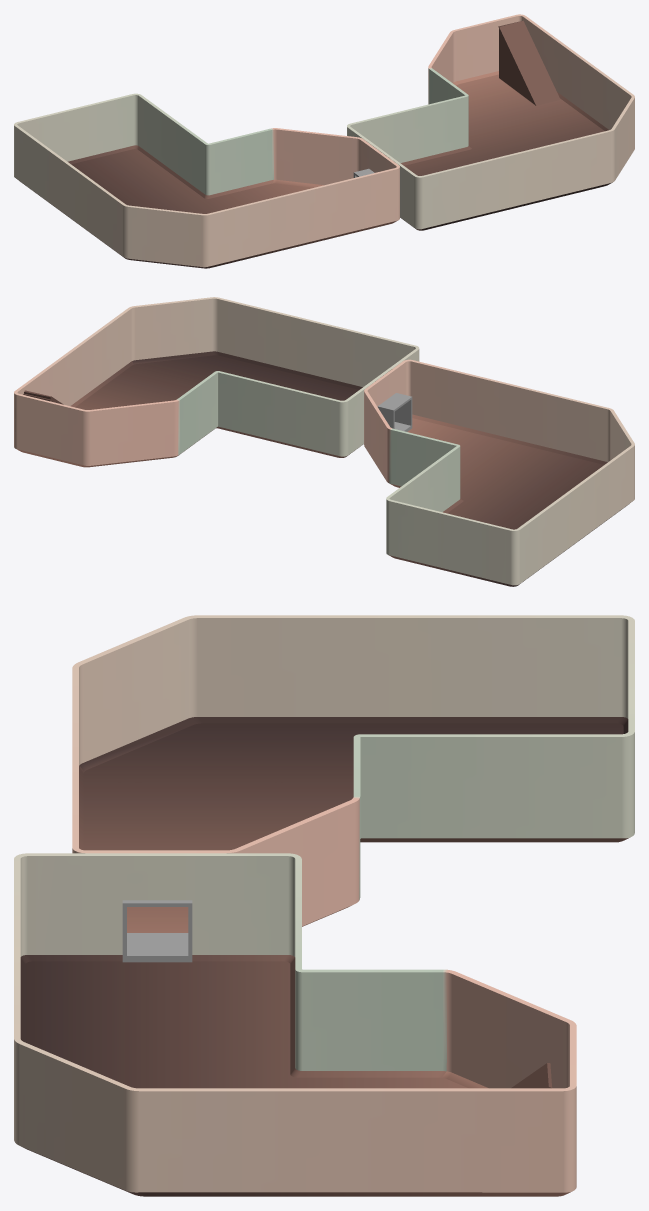
3 views of the same model, one above another, from view 1: azimuth 30°, elevation 25°; view 2: azimuth 150°, elevation 25°; view 3: azimuth 270°, elevation 25° (orthographic). The views are drawn at different scales.
Visible parts, largest first — view 1: duplicated_30, SM_Room_1, duplicated_21; view 2: SM_Room_1, duplicated_30, pCube50; view 3: SM_Room_1, duplicated_30, pCube50.
Part boxes in pixels (x1=…): duplicated_30: x1=14, y1=93, x2=399, y2=268; SM_Room_1: x1=347, y1=14, x2=634, y2=230; duplicated_21: x1=498, y1=20, x2=560, y2=105; SM_Room_1: x1=14, y1=297, x2=419, y2=467; duplicated_30: x1=364, y1=359, x2=634, y2=586; pCube50: x1=377, y1=393, x2=412, y2=431; SM_Room_1: x1=14, y1=853, x2=576, y2=1196; duplicated_30: x1=72, y1=615, x2=634, y2=932; pCube50: x1=122, y1=900, x2=192, y2=962.
Bounding box in the file's own units: 11008 × 6072 × 1177.
2 materials, 1 textured.
